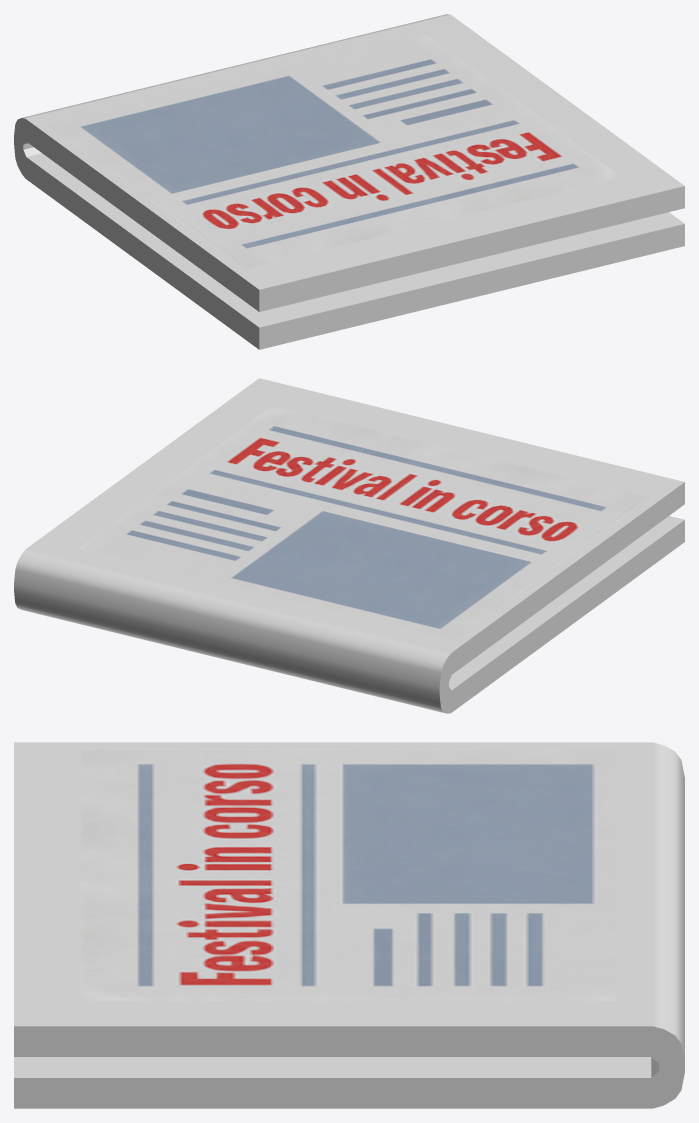
The model's file is Giornale.fbx.
3 renders of one model, top to bottom at view 1: azimuth 30°, elevation 25°; view 2: azimuth 150°, elevation 25°; view 3: azimuth 270°, elevation 25°, orthographic. The views are drawn at different scales.
Parts seen in each view (by area): view 1: Giornale; view 2: Giornale; view 3: Giornale.
Part boxes in pixels (x1=…): Giornale: x1=14, y1=14, x2=684, y2=349; Giornale: x1=14, y1=378, x2=684, y2=713; Giornale: x1=14, y1=742, x2=684, y2=1108.
Bounding box in the file's own units: 1 × 0.1348 × 0.9985.
